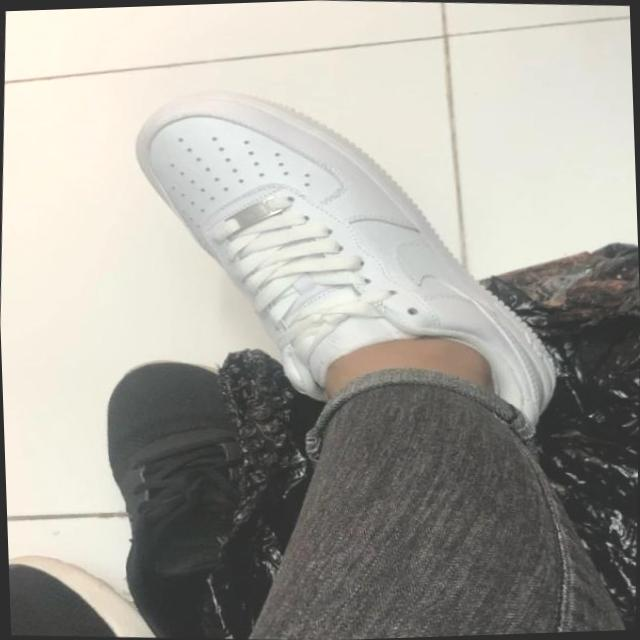nike_original_airforce: (112, 69, 582, 490)
